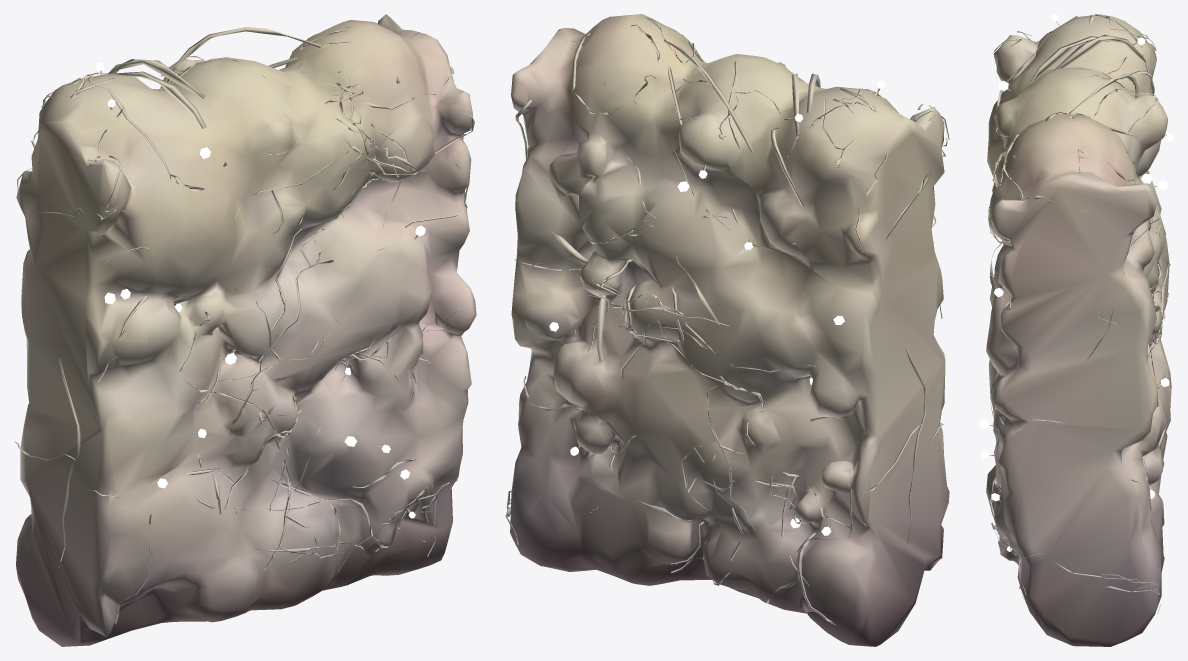
The model's file is labirent_duvar_c.glb.
3 renders of one model, left to right at view 1: azimuth 30°, elevation 25°; view 2: azimuth 150°, elevation 25°; view 3: azimuth 270°, elevation 25°, orthographic. The views are drawn at different scales.
Parts seen in each view (by area): view 1: labirent_duvar_c_LOD0; view 2: labirent_duvar_c_LOD0; view 3: labirent_duvar_c_LOD0.
Part boxes in pixels (x1,y1,x2,y2): labirent_duvar_c_LOD0: (14, 14, 476, 646); labirent_duvar_c_LOD0: (505, 14, 949, 646); labirent_duvar_c_LOD0: (978, 14, 1173, 646).
Size of what is drawn, in the model's own units: 3.5 by 4.97 by 1.77.
